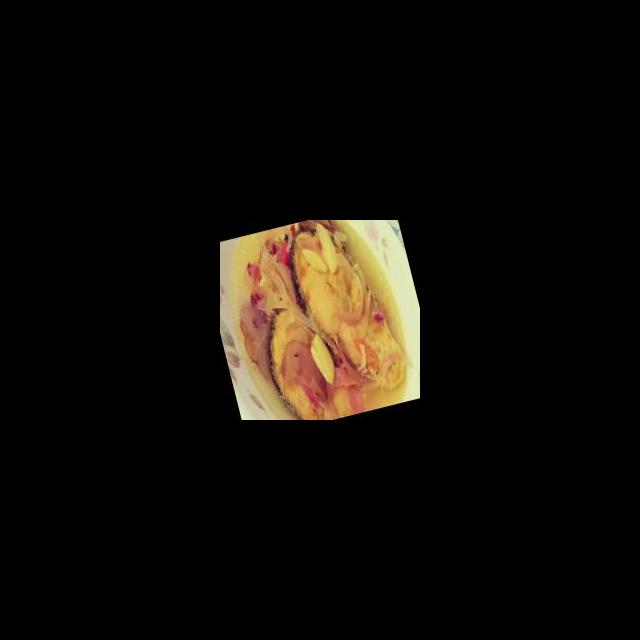ca hoi: (279, 220, 412, 406), (253, 291, 357, 420)
